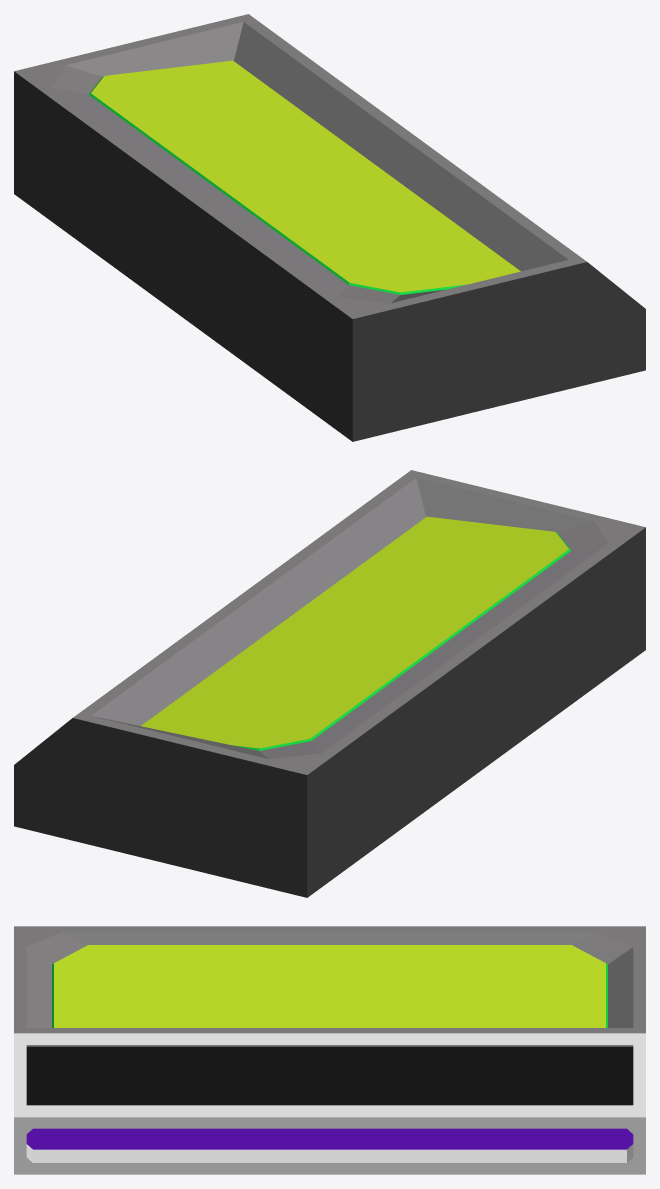
Rendered from PlatformBorder00_5.fbx.
The picture shows the model from 3 angles, top to bottom: view 1: azimuth 30°, elevation 25°; view 2: azimuth 150°, elevation 25°; view 3: azimuth 270°, elevation 25°; orthographic projection. The views are drawn at different scales.
Visible parts, largest first — view 1: PlatformBorder00_5; view 2: PlatformBorder00_5; view 3: PlatformBorder00_5.
Part boxes in pixels (box(x1,y1,x2,y2)): PlatformBorder00_5: box(14, 14, 645, 441); PlatformBorder00_5: box(14, 470, 645, 897); PlatformBorder00_5: box(14, 926, 645, 1174).
Size of the model in its own units: 250 by 100 by 500.
